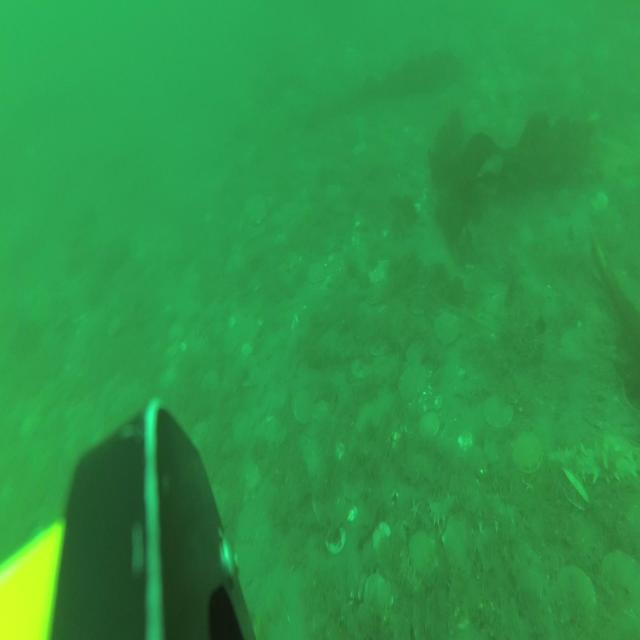holothurian: (555, 442, 640, 491), (462, 491, 516, 536), (427, 491, 459, 528)
scallop: (552, 567, 596, 632), (600, 543, 640, 612), (561, 466, 590, 514), (511, 434, 543, 475), (365, 570, 392, 618), (433, 309, 462, 350), (485, 391, 512, 428), (292, 388, 314, 427), (420, 414, 440, 441)
